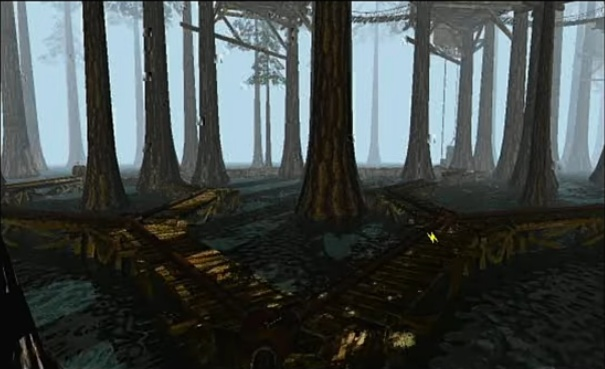Keep: (425, 227, 441, 245)
